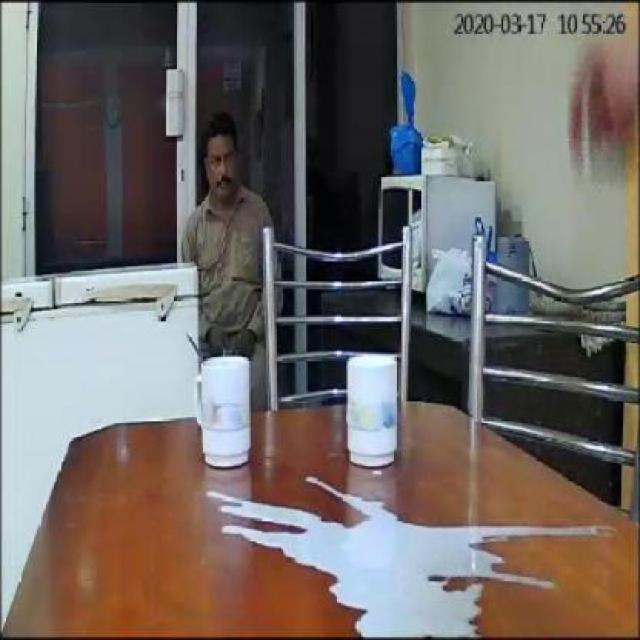spillage: (206, 489, 616, 640)
